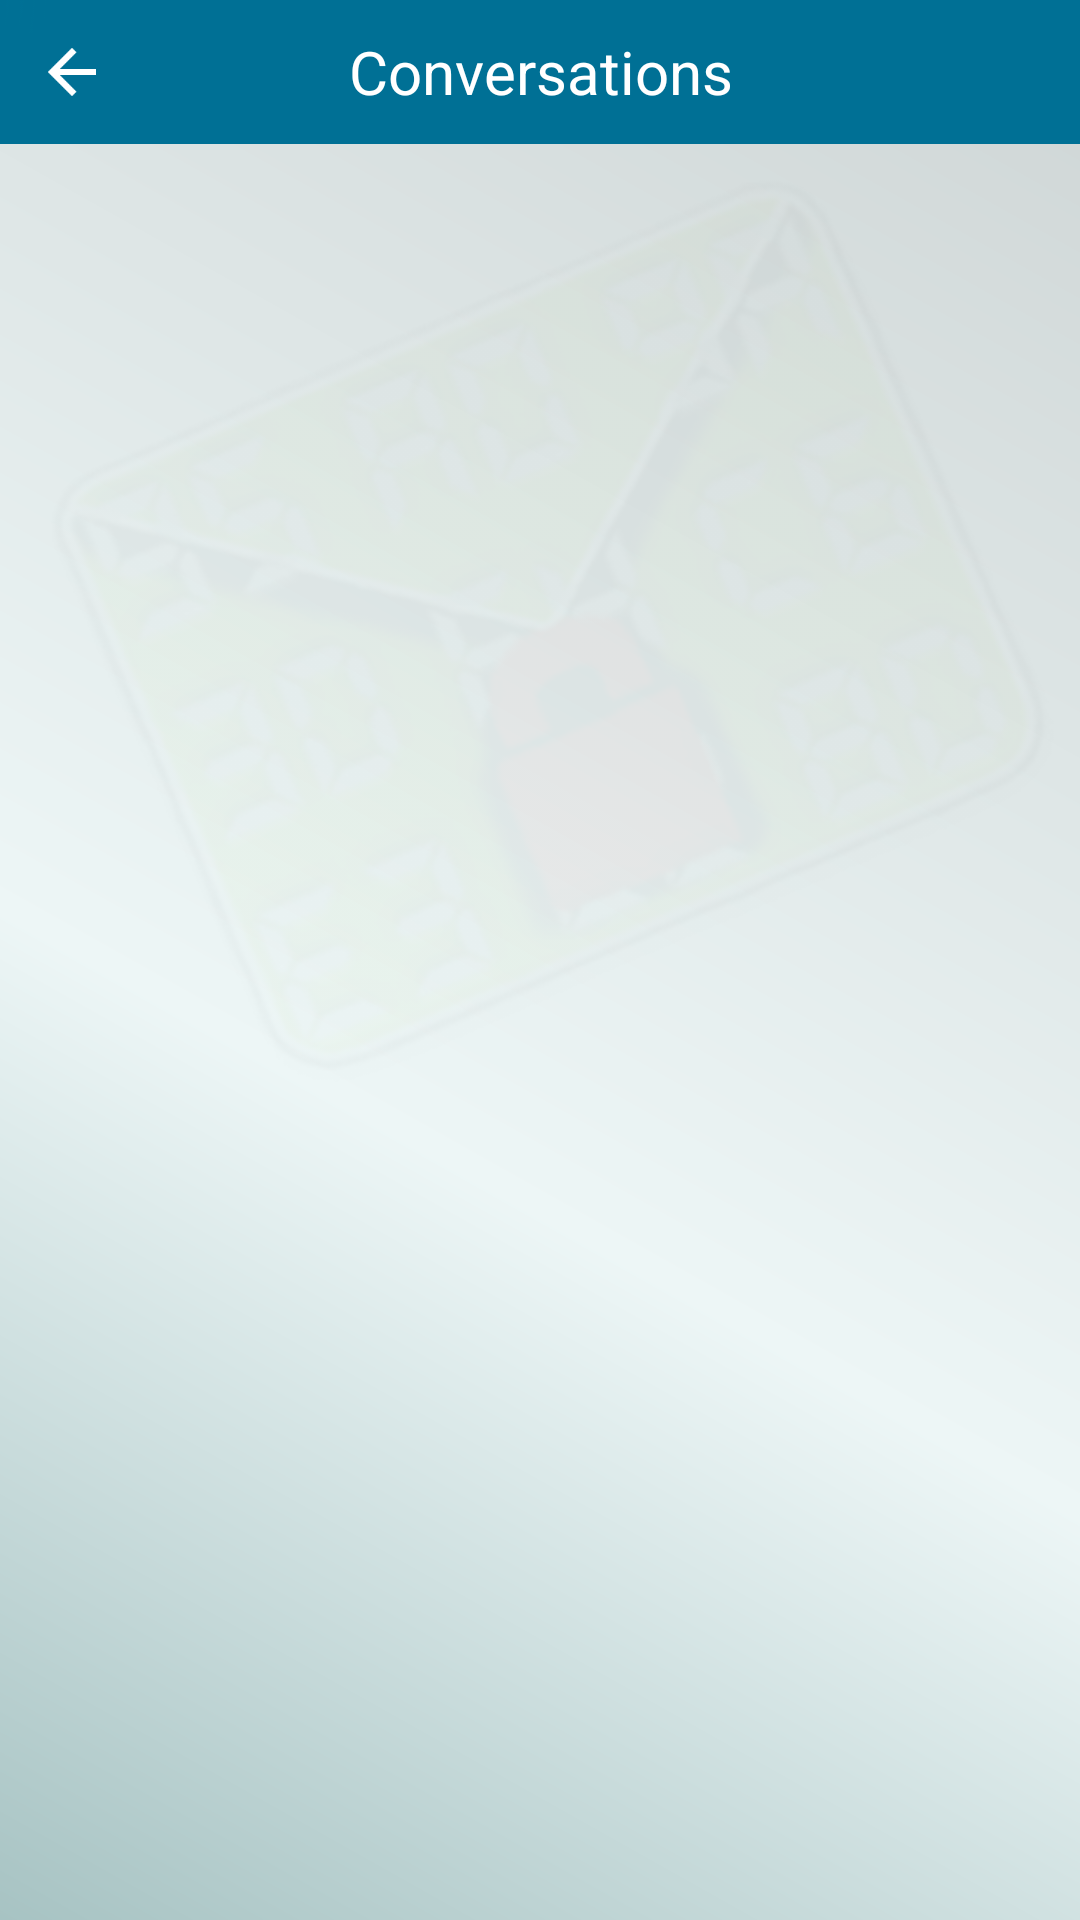

Where to tap for icons on this 1080x1920 app screen, as (x=x, y=y):
Back: (x=72, y=72)
